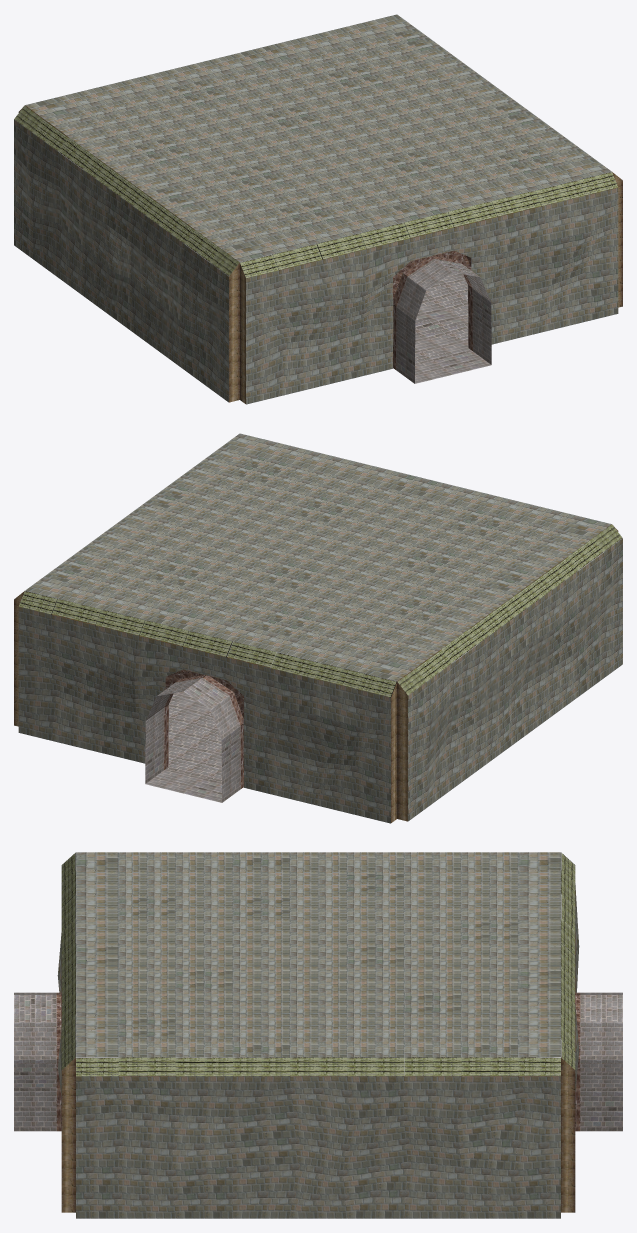
Rendered from map50MNS.fbx.
The picture shows the model from 3 angles, top to bottom: view 1: azimuth 30°, elevation 25°; view 2: azimuth 150°, elevation 25°; view 3: azimuth 270°, elevation 25°; orthographic projection. The views are drawn at different scales.
Parts seen in each view (by area): view 1: map50MNS_Layer1_roof, map50MNS_Layer1_right, map50MNS_Layer1_near, map50MNS_Layer2, map50MNS_Layer3, map50MNS_Layer1_floor2, map50MNS_Layer6, map50MNS_Layer5; view 2: map50MNS_Layer1_roof, map50MNS_Layer1_right, map50MNS_Layer1_near, map50MNS_Layer2, map50MNS_Layer3, map50MNS_Layer1_floor2, map50MNS_Layer6, map50MNS_Layer5; view 3: map50MNS_Layer1_roof, map50MNS_Layer1_far, map50MNS_Layer2, map50MNS_Layer3, map50MNS_Layer6, map50MNS_Layer5, map50MNS_Layer1_right.
Part boxes in pixels (box(x1,y1,x2,y2)): map50MNS_Layer1_roof: box(25, 14, 611, 262); map50MNS_Layer1_right: box(246, 188, 618, 404); map50MNS_Layer1_near: box(14, 119, 228, 402); map50MNS_Layer2: box(14, 105, 617, 278); map50MNS_Layer3: box(396, 258, 491, 383); map50MNS_Layer1_floor2: box(393, 272, 470, 368); map50MNS_Layer6: box(18, 106, 622, 403); map50MNS_Layer5: box(393, 251, 472, 369); map50MNS_Layer1_roof: box(25, 433, 611, 681); map50MNS_Layer1_right: box(18, 607, 390, 823); map50MNS_Layer1_near: box(408, 538, 622, 821); map50MNS_Layer2: box(19, 524, 622, 697); map50MNS_Layer3: box(145, 677, 240, 802); map50MNS_Layer1_floor2: box(166, 691, 243, 787); map50MNS_Layer6: box(14, 525, 618, 822); map50MNS_Layer5: box(164, 670, 243, 788); map50MNS_Layer1_roof: box(76, 852, 560, 1057); map50MNS_Layer1_far: box(76, 1076, 560, 1218); map50MNS_Layer2: box(61, 852, 575, 1076); map50MNS_Layer3: box(14, 992, 622, 1131); map50MNS_Layer6: box(61, 1057, 575, 1212); map50MNS_Layer5: box(56, 992, 580, 1131); map50MNS_Layer1_right: box(57, 885, 579, 1095).
Bounding box in the file's own units: 0.85 × 0.2813 × 1.
